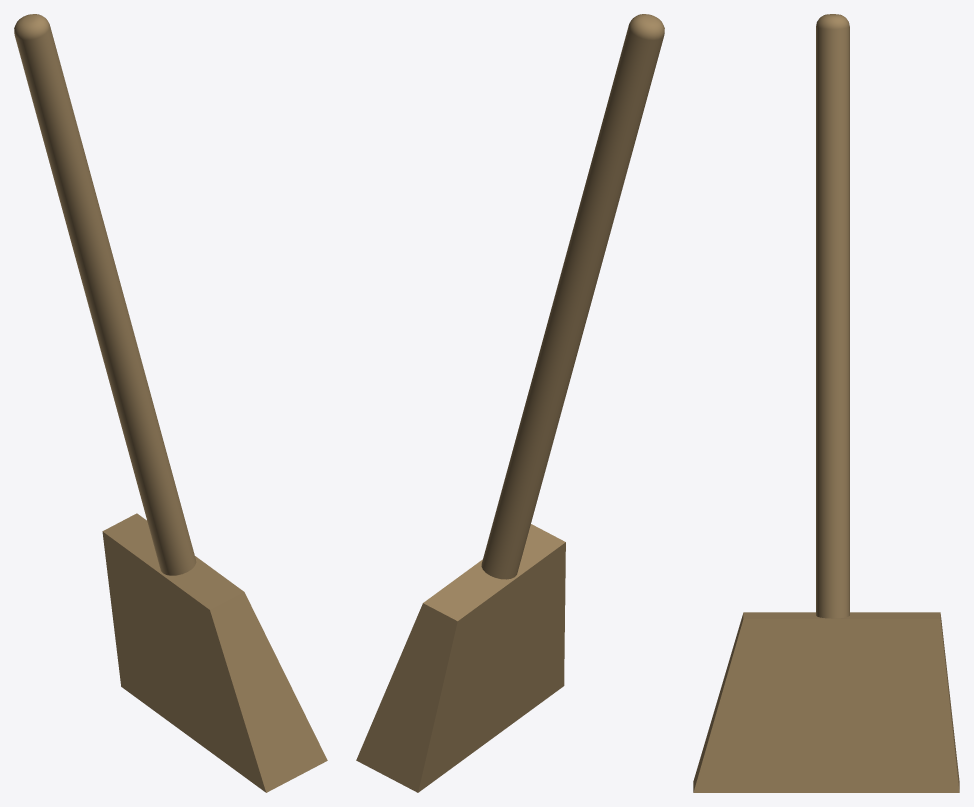
Rendered from broom.fbx.
3 renders of one model, left to right at view 1: azimuth 30°, elevation 25°; view 2: azimuth 150°, elevation 25°; view 3: azimuth 270°, elevation 25°, orthographic. The views are drawn at different scales.
Parts seen in each view (by area): view 1: broom; view 2: broom; view 3: broom.
Boxes of the visible parts, <box> form: broom: <box>14,14,327,792</box>; broom: <box>356,14,664,792</box>; broom: <box>693,14,959,792</box>.
Bounding box in the file's own units: 1.34 × 4.12 × 1.43.
